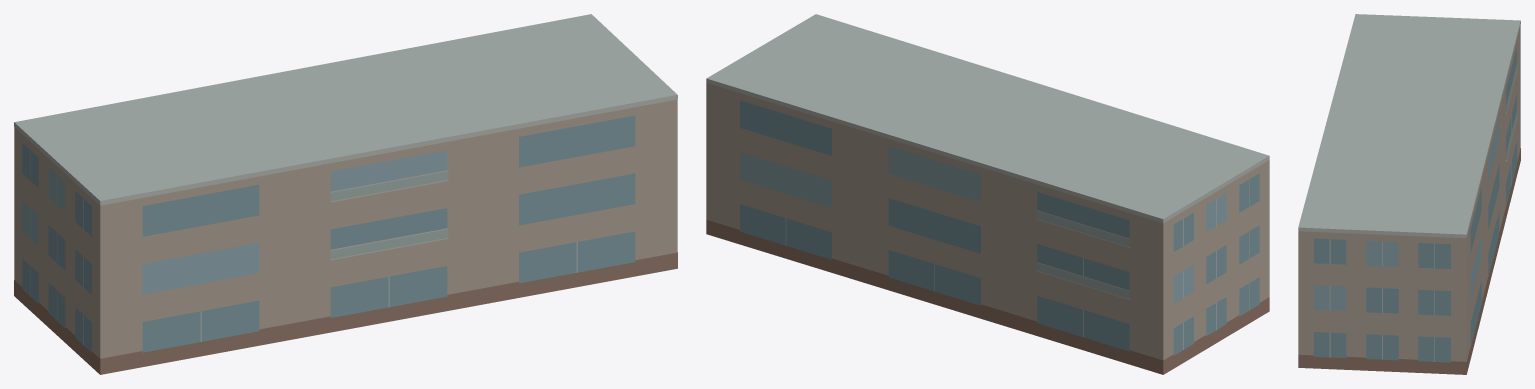
The model's file is survey-upis-32538962.glb.
3 renders of one model, left to right at view 1: azimuth 30°, elevation 25°; view 2: azimuth 150°, elevation 25°; view 3: azimuth 270°, elevation 25°, orthographic. The views are drawn at different scales.
Visible parts, largest first — view 1: survey-upis-32538962.tmp; view 2: survey-upis-32538962.tmp; view 3: survey-upis-32538962.tmp.
Part boxes in pixels (x1,y1,x2,y2): survey-upis-32538962.tmp: (14, 14, 677, 374); survey-upis-32538962.tmp: (706, 14, 1269, 374); survey-upis-32538962.tmp: (1298, 14, 1520, 374).
Bounding box in the file's own units: 30.87 × 9.15 × 13.17.
